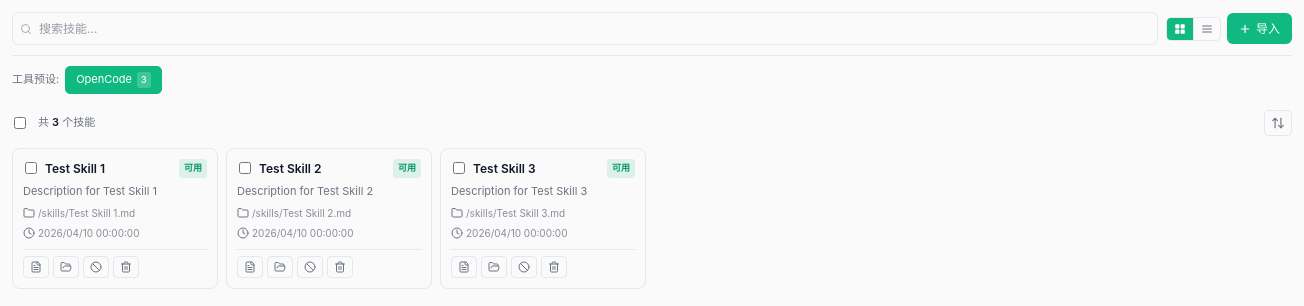
Test: ProjectSkillList - Delete Confirmation › Batch Delete Confirmation › shows batch delete button when skills are selected
The image size is (1304, 306).
Click the 2nd checkbox: (31, 168) [25,162,37,174]
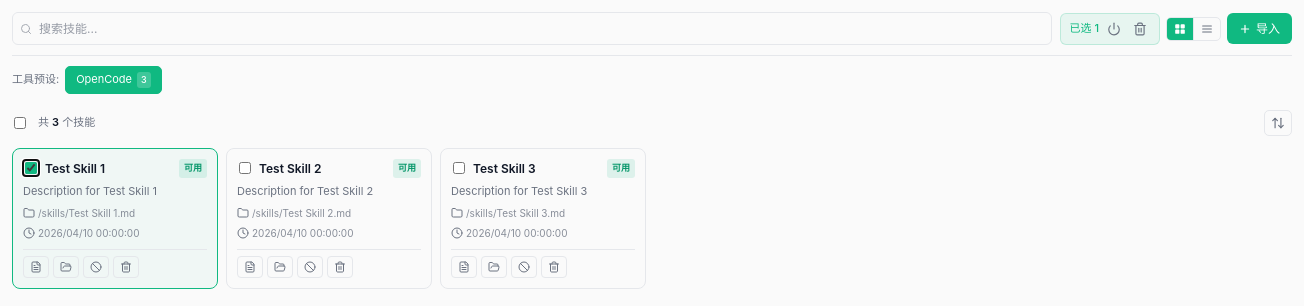
Expected: the text "已选 1" is shown, [1070,20,1099,37]
Expected: the button titled "批量移除" is shown, [1129,18,1151,40]
